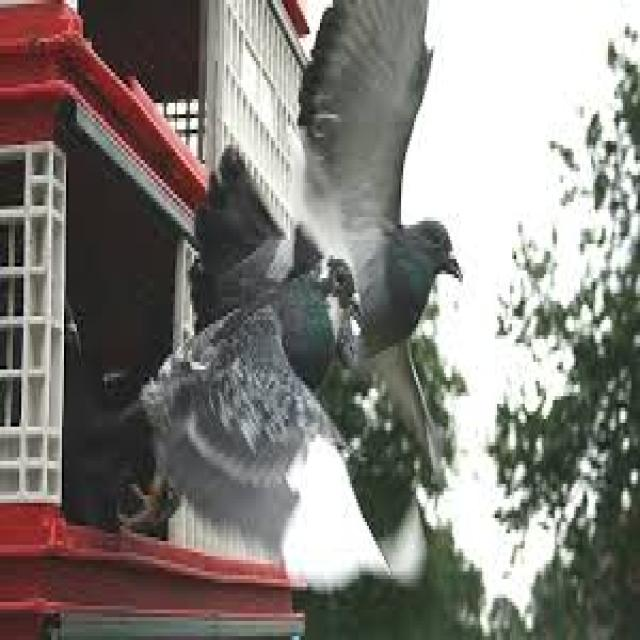pigeon: (112, 232, 394, 590)
